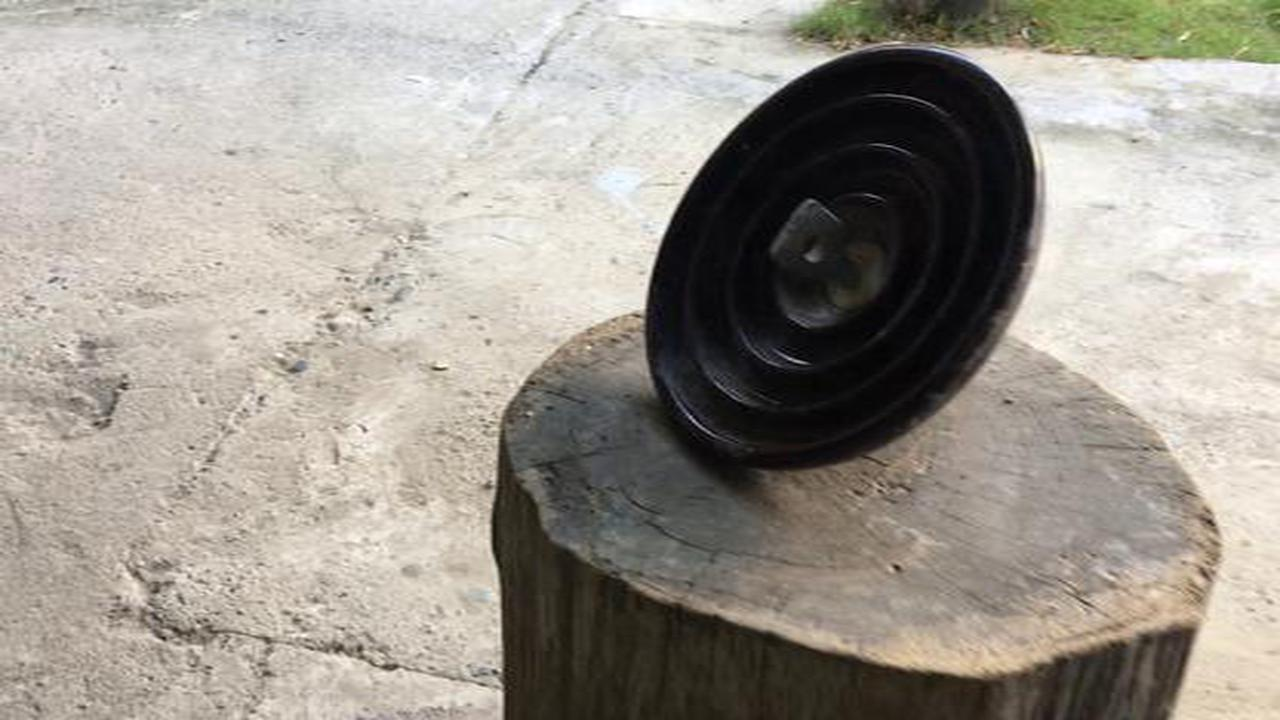insulator_disc: (636, 42, 1054, 488)
